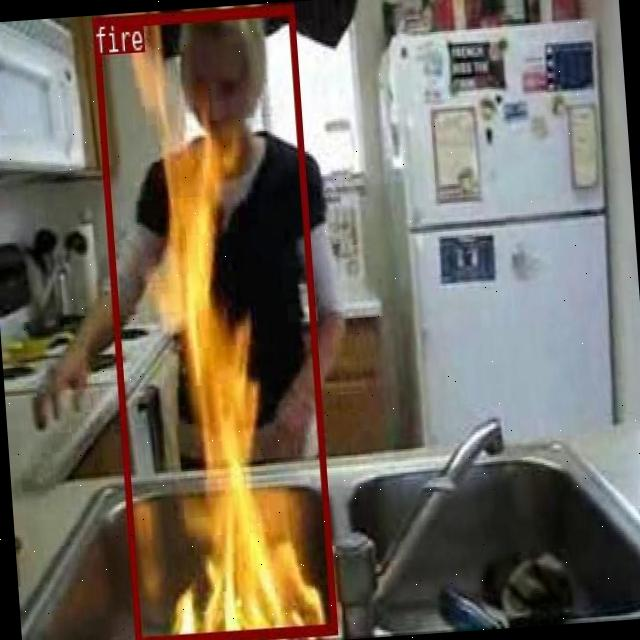fire: (91, 2, 337, 640)
